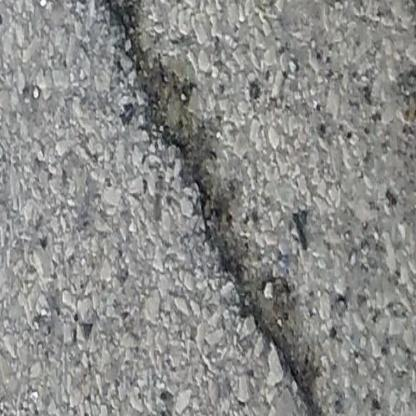Cracks: (92, 0, 334, 416)
